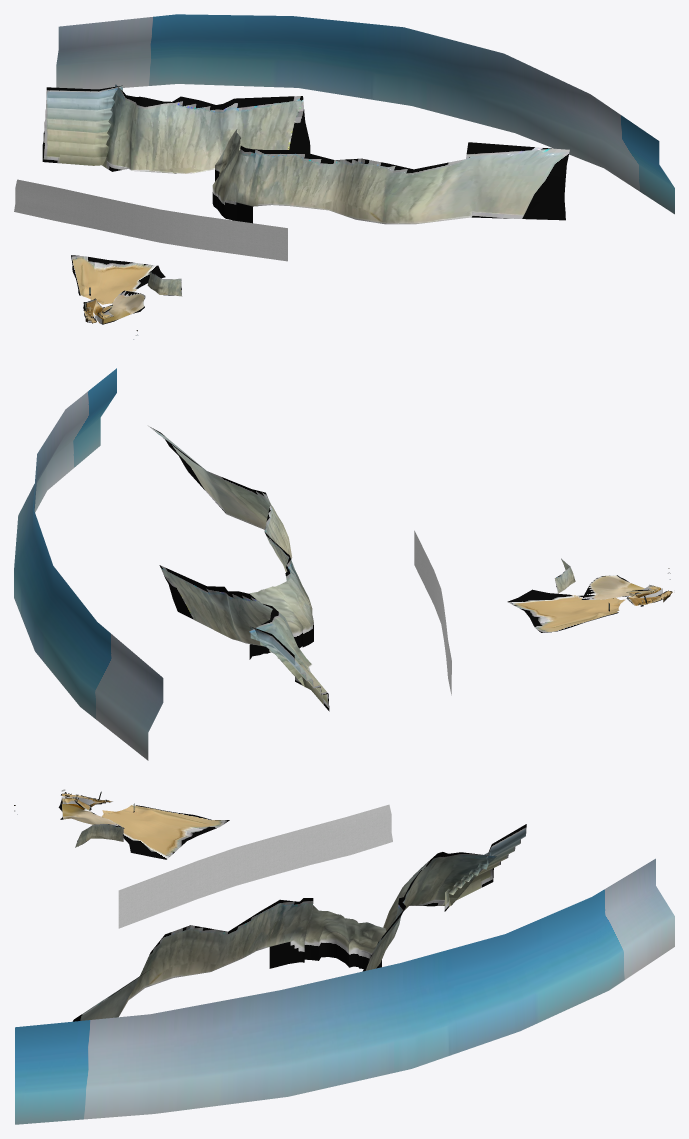
File: sand.glb
3 views of the same model, one above another, from view 1: azimuth 30°, elevation 25°; view 2: azimuth 150°, elevation 25°; view 3: azimuth 270°, elevation 25° (orthographic). The views are drawn at different scales.
Visible parts, largest first — view 1: sa22b_00_sky001, sa22b_00r_bac006, sa22b_00l_bac005, sa22beff002, sa22b_01l_bac003, sa22b_01rr_bac001, sa22b_00r_bac004; view 2: sa22b_00_sky001, sa22b_00l_bac005, sa22b_00r_bac006, sa22b_01l_bac003, sa22beff002, sa22b_01rr_bac001; view 3: sa22b_00_sky001, sa22beff002, sa22b_00r_bac006, sa22b_00l_bac005, sa22b_01l_bac003, sa22b_00r_bac004, sa22b_01rr_bac001.
Boxes of the visible parts, x1,y1,x2,y2 form: sa22b_00_sky001: [56, 14, 674, 214]; sa22b_00r_bac006: [233, 142, 569, 224]; sa22b_00l_bac005: [42, 84, 310, 220]; sa22beff002: [14, 179, 287, 261]; sa22b_01l_bac003: [71, 255, 165, 304]; sa22b_01rr_bac001: [103, 290, 145, 324]; sa22b_00r_bac004: [147, 271, 182, 296]; sa22b_00_sky001: [14, 368, 163, 760]; sa22b_00l_bac005: [159, 565, 329, 711]; sa22b_00r_bac006: [147, 425, 312, 613]; sa22b_01l_bac003: [507, 589, 625, 632]; sa22beff002: [414, 530, 451, 695]; sa22b_01rr_bac001: [581, 575, 644, 599]; sa22b_00_sky001: [15, 858, 674, 1124]; sa22beff002: [118, 804, 392, 928]; sa22b_00r_bac006: [73, 898, 313, 1021]; sa22b_00l_bac005: [304, 824, 526, 971]; sa22b_01l_bac003: [102, 805, 229, 859]; sa22b_00r_bac004: [75, 824, 123, 847]; sa22b_01rr_bac001: [58, 803, 124, 828].
Size of the model in its own units: 765 by 137 by 673.
Materials: 20 (20 with a texture image).
